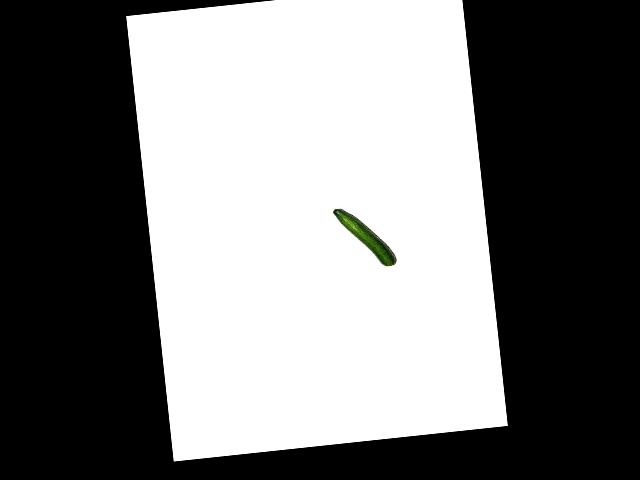cucumber: (333, 203, 396, 271)
